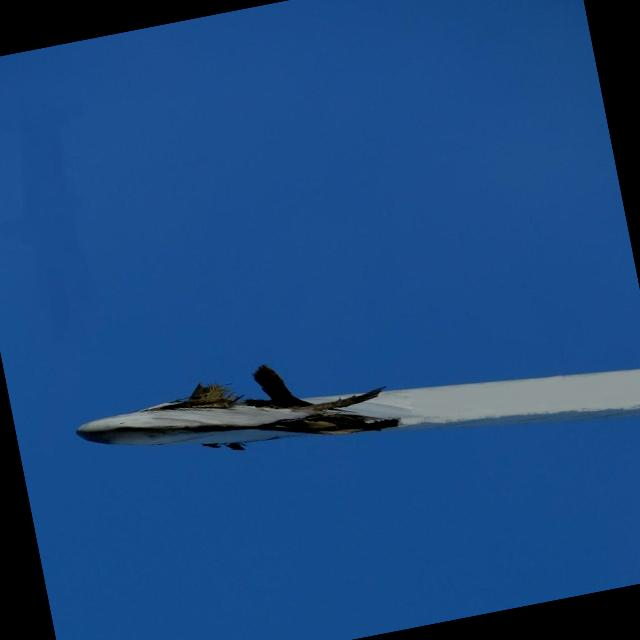crack: (158, 339, 398, 478)
